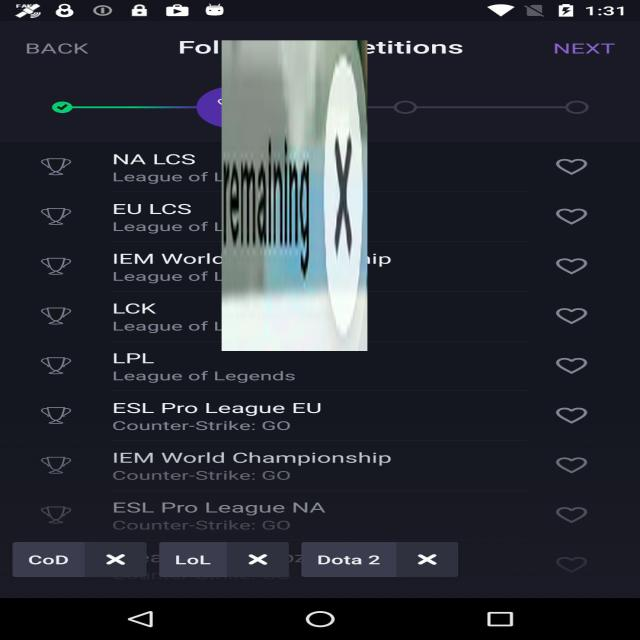misdirection: (222, 40, 368, 351)
